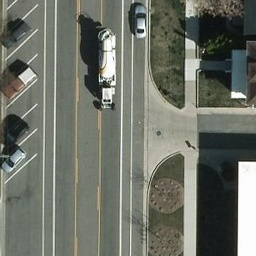car: (3, 65, 37, 99), (1, 24, 26, 52), (131, 5, 148, 39), (1, 153, 22, 178), (1, 126, 27, 145)
